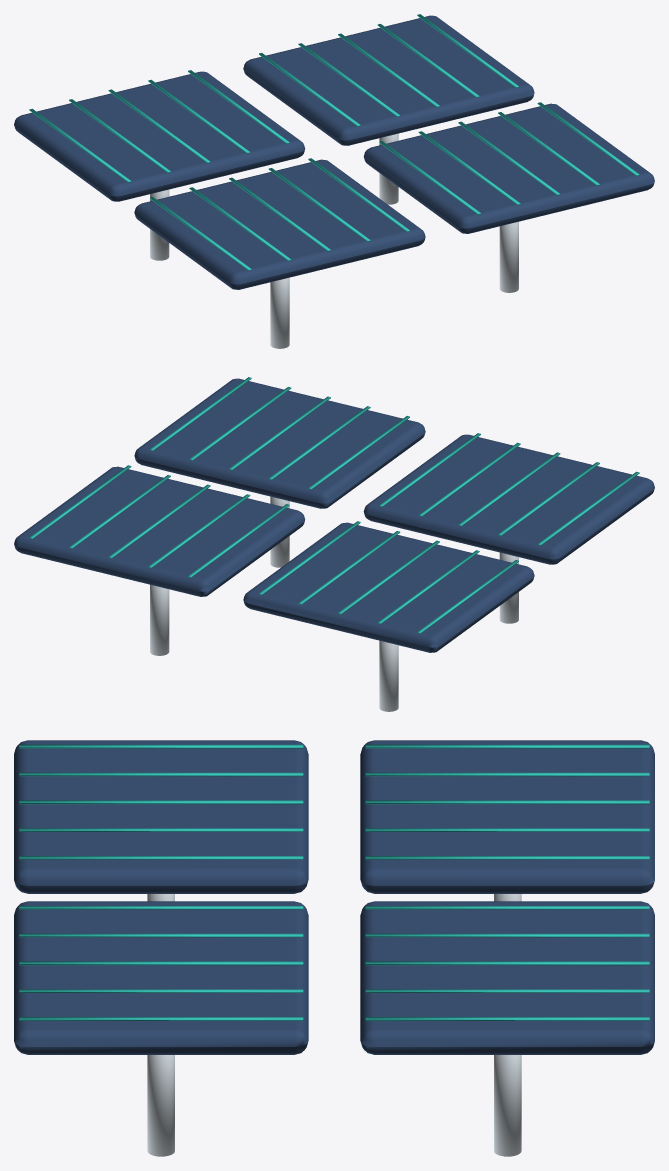
Rendered from solar-array-quality.glb.
3 views of the same model, one above another, from view 1: azimuth 30°, elevation 25°; view 2: azimuth 150°, elevation 25°; view 3: azimuth 270°, elevation 25° (orthographic). The views are drawn at different scales.
Visible parts, largest first — view 1: Panel; view 2: Panel; view 3: Panel.
Part boxes in pixels (x1,y1,x2,y2): Panel: (14, 14, 654, 348); Panel: (14, 377, 654, 711); Panel: (14, 740, 654, 1156).
Size of the model in its own units: 2.04 by 0.5995 by 1.85.
